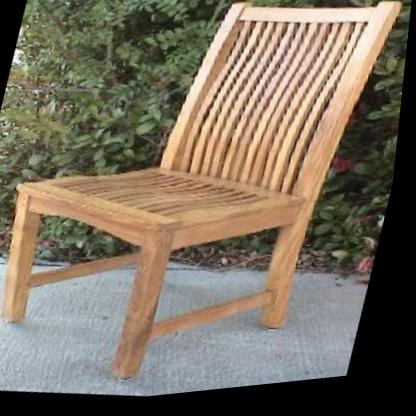Chair: (0, 0, 414, 416)
